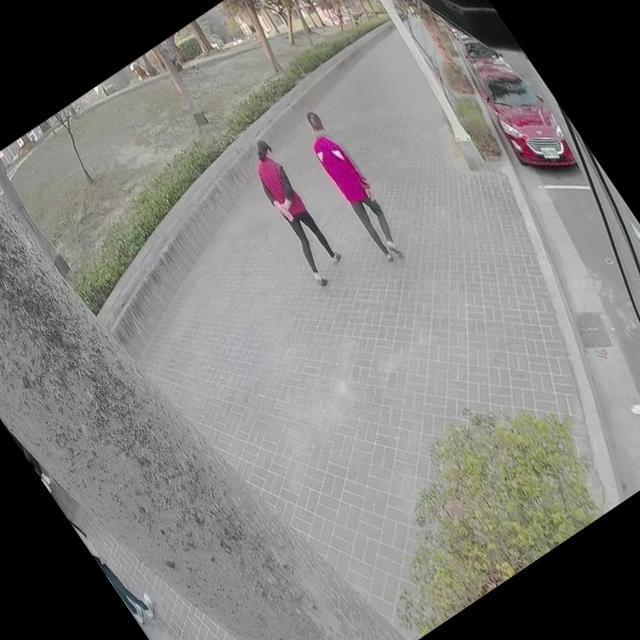person: (290, 106, 418, 272), (235, 136, 350, 282), (69, 506, 162, 628)
